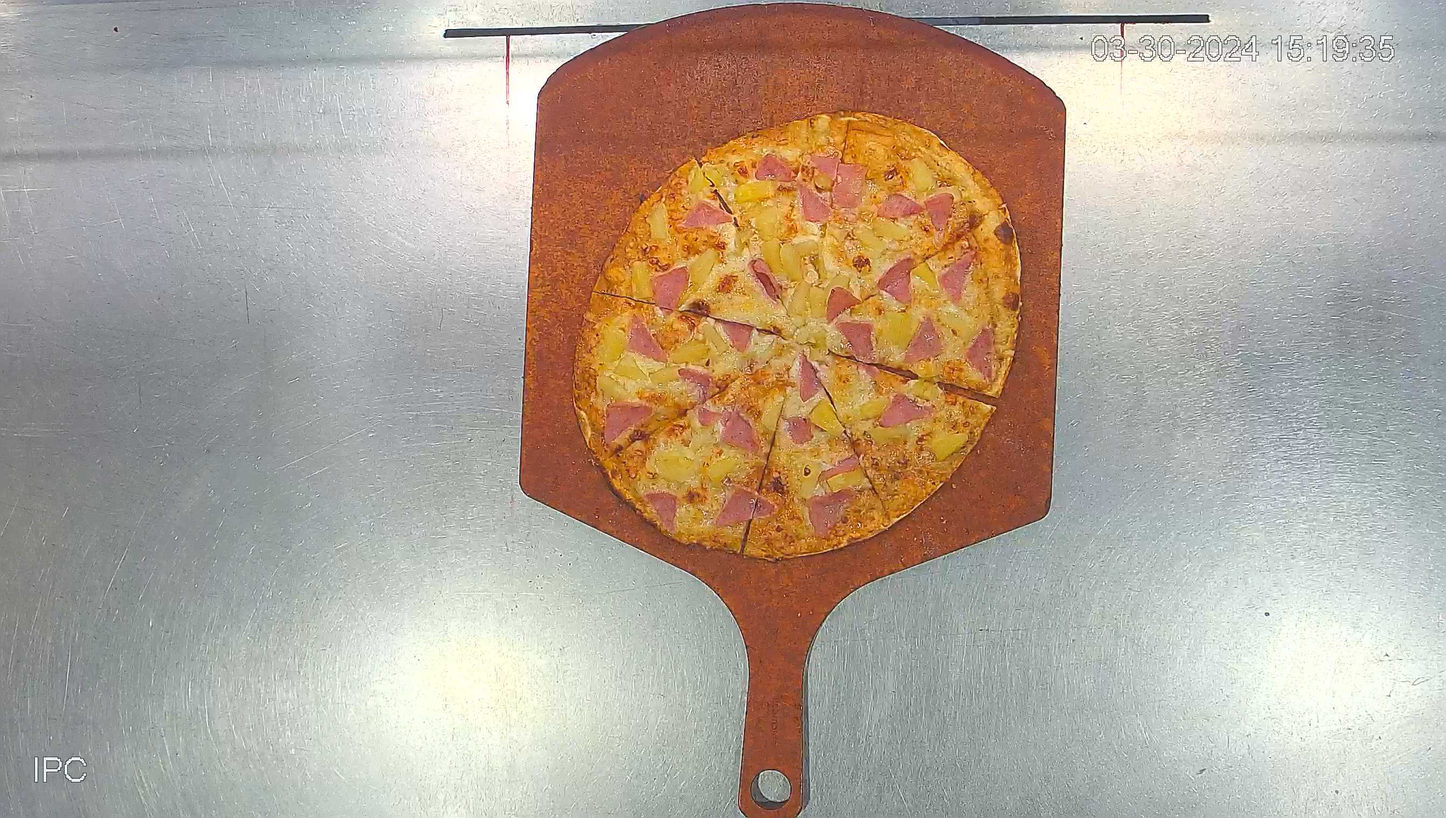manager_choice: (575, 112, 1023, 560)
